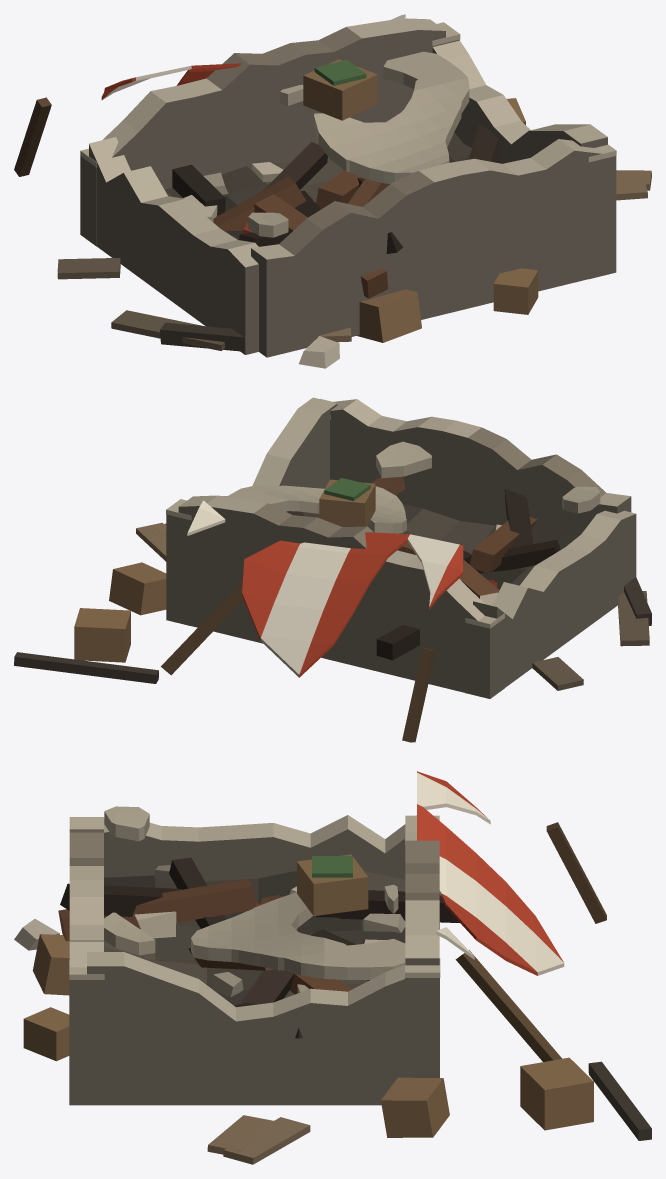
File: VerHut02a.glb
The picture shows the model from 3 angles, top to bottom: view 1: azimuth 30°, elevation 25°; view 2: azimuth 150°, elevation 25°; view 3: azimuth 270°, elevation 25°; orthographic projection. The views are drawn at different scales.
Visible parts, largest first — view 1: VerHut02a_flat; view 2: VerHut02a_flat; view 3: VerHut02a_flat.
Boxes of the visible parts, x1,y1,x2,y2 form: VerHut02a_flat: [14, 14, 651, 368]; VerHut02a_flat: [14, 397, 651, 742]; VerHut02a_flat: [14, 771, 651, 1164].
Bounding box in the file's own units: 6.16 × 1.67 × 5.67.
